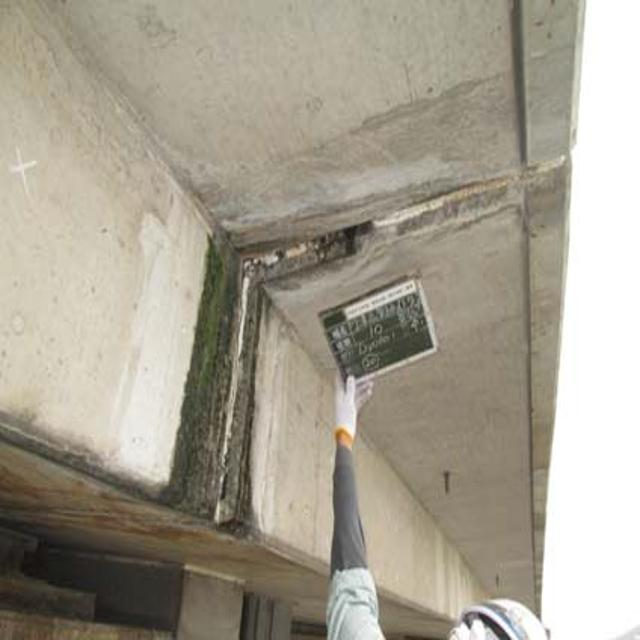leakage: (187, 203, 292, 544)
